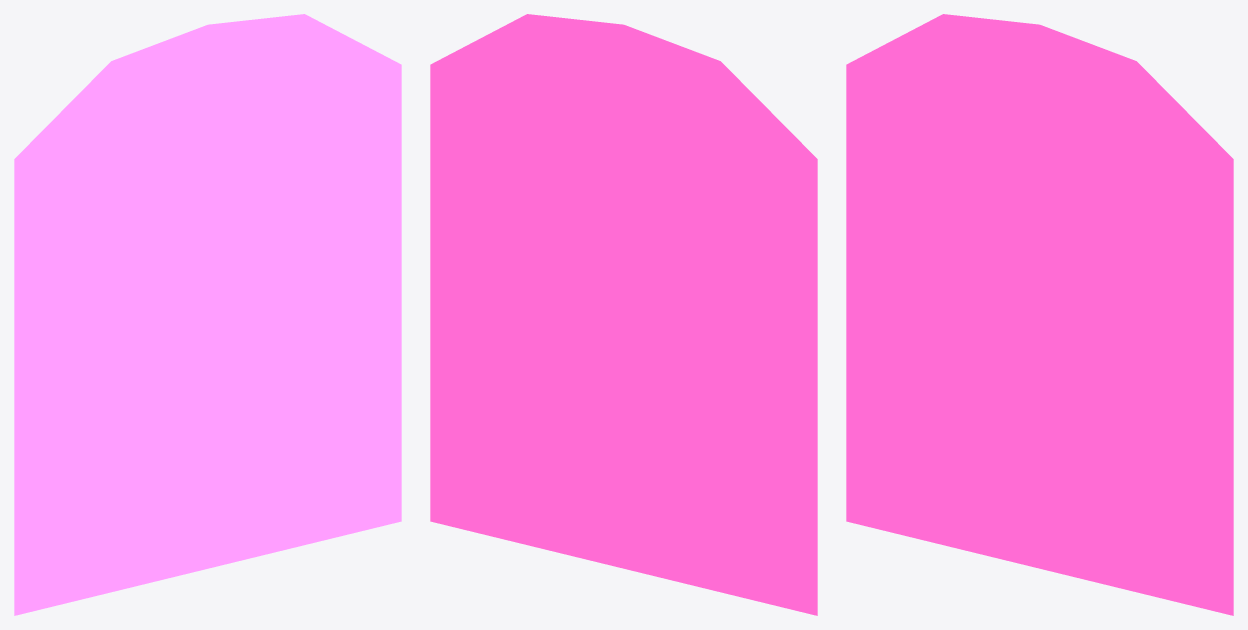
3 views of the same model, side by side, from view 1: azimuth 30°, elevation 25°; view 2: azimuth 150°, elevation 25°; view 3: azimuth 330°, elevation 25° (orthographic).
Visible parts, largest first — view 1: gate; view 2: gate; view 3: gate.
Part boxes in pixels (box(x1,y1,x2,y2)): gate: box(14, 14, 401, 615); gate: box(430, 14, 817, 615); gate: box(846, 14, 1233, 615).
Size of the model in its own units: 1.02 by 1.38 by 0.
